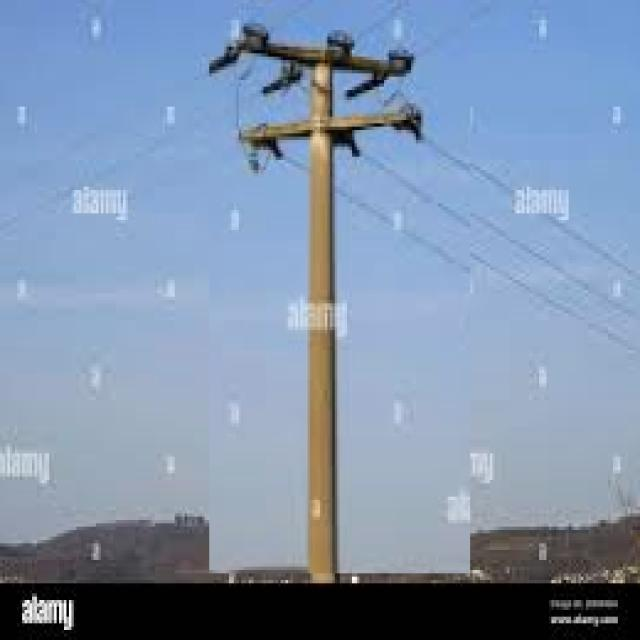light_pole: (209, 14, 471, 573)
